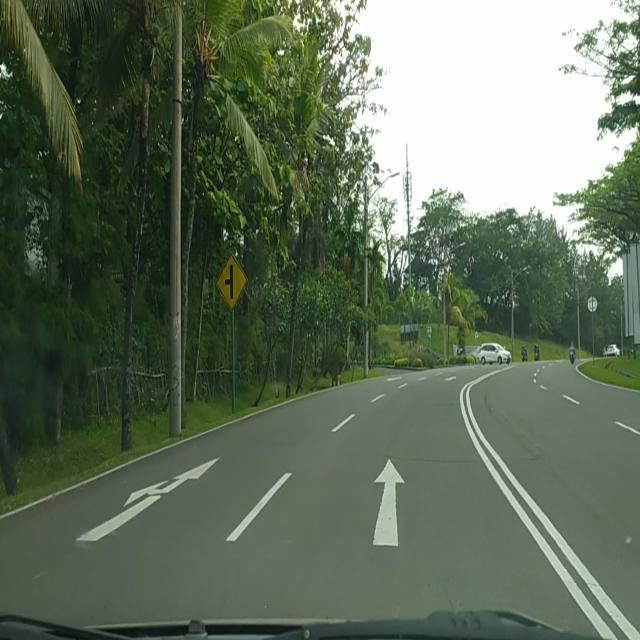Sewer Cover: (384, 450, 484, 460)
